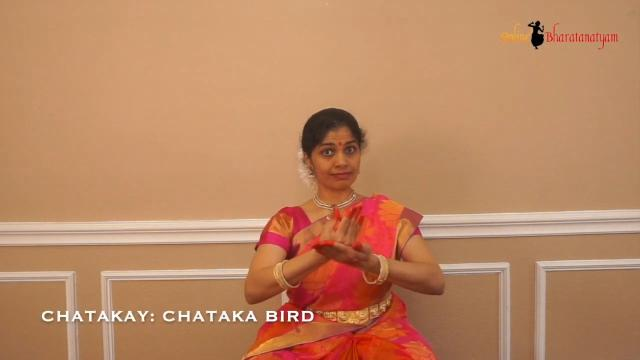kangul: (320, 197, 372, 250)
